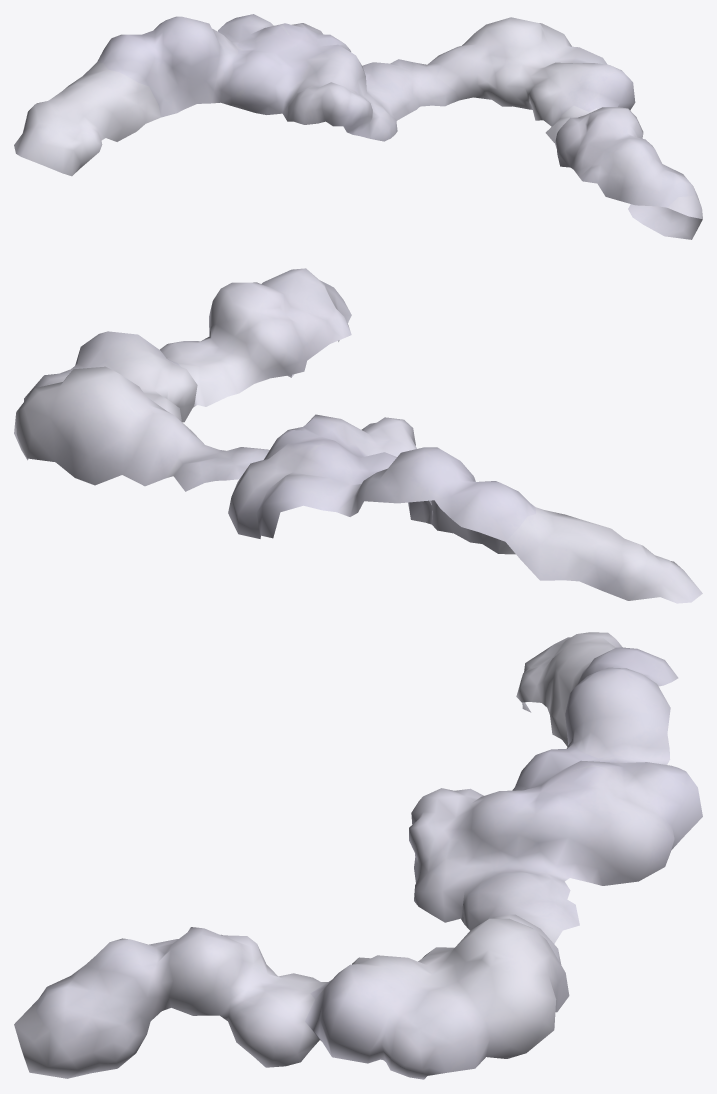
The model's file is OP_KD_Cloud_16b.FBX.
3 renders of one model, top to bottom at view 1: azimuth 30°, elevation 25°; view 2: azimuth 150°, elevation 25°; view 3: azimuth 270°, elevation 25°, orthographic. The views are drawn at different scales.
Parts seen in each view (by area): view 1: OP_KD_Cloud_16b; view 2: OP_KD_Cloud_16b; view 3: OP_KD_Cloud_16b.
Boxes of the visible parts, box(x1,y1,x2,y2) form: OP_KD_Cloud_16b: box(14, 14, 702, 239); OP_KD_Cloud_16b: box(14, 268, 702, 603); OP_KD_Cloud_16b: box(14, 632, 702, 1079).
Size of the model in its own units: 15299 by 3872 by 11847.
